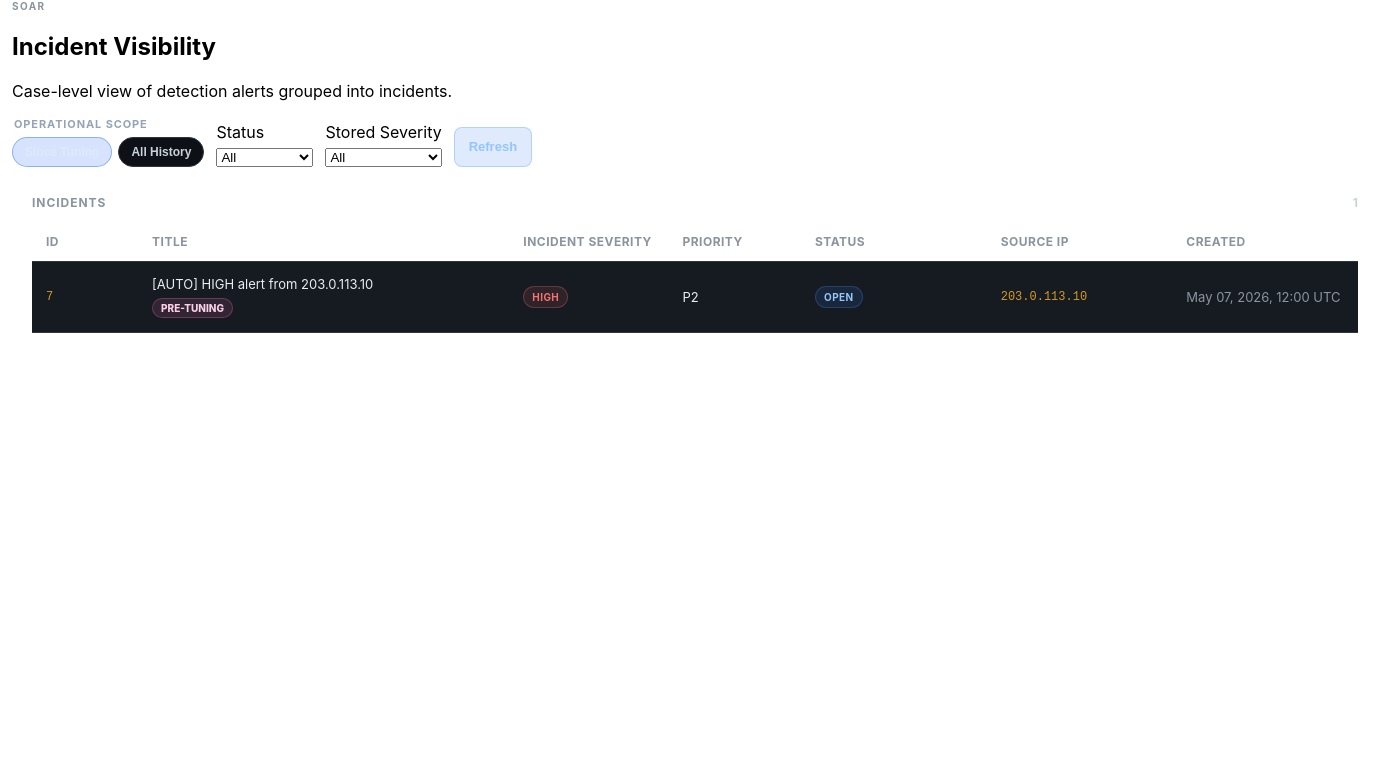
Scenario: IncidentsPanel › renders timeline entries with safe metadata only
The image size is (1378, 768).
Click the text "[AUTO] HIGH alert from 203.0.113.10". click: (263, 284)
box: [152, 276, 373, 292]
(page scrolled)
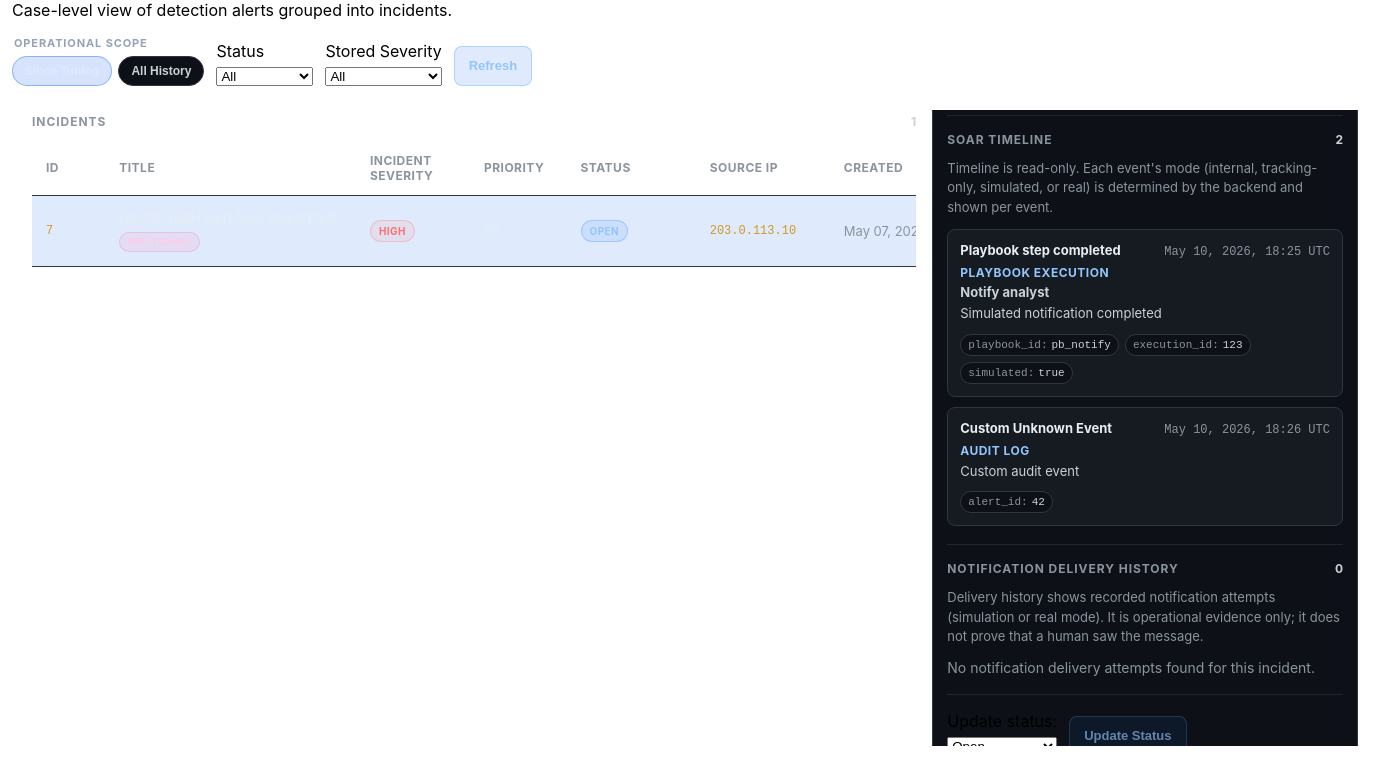
Expected: the text "Playbook step completed" is shown, [960, 242, 1121, 258]
Expected: the text "Notify analyst" is shown, [960, 284, 1049, 300]
Expected: the text "Simulated notification completed" is shown, [960, 305, 1162, 321]
